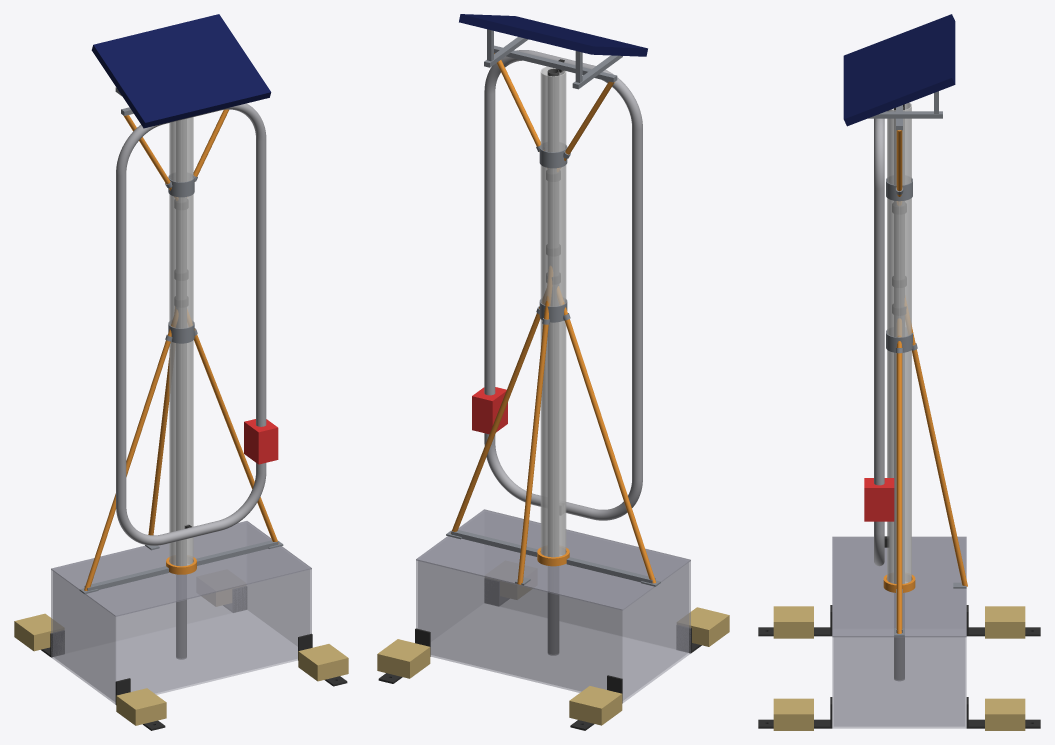
3 views of the same model, side by side, from view 1: azimuth 30°, elevation 25°; view 2: azimuth 150°, elevation 25°; view 3: azimuth 270°, elevation 25° (orthographic). The views are drawn at different scales.
Parts seen in each view (by area): view 1: tank, solar_panel_30W, lid, track_loop, growing_pipe, spine_tube, sandbags, lower_aframe_and_back_strut_16mm, fold_out_feet, base_bar_and_lid_plates, cart, metal_collars_50mm (+1 smaller); view 2: tank, growing_pipe, lid, track_loop, spine_tube, lower_aframe_and_back_strut_16mm, sandbags, solar_panel_30W, fold_out_feet, base_bar_and_lid_plates, panel_rails_and_posts, cart (+3 smaller); view 3: tank, lid, growing_pipe, solar_panel_30W, sandbags, track_loop, lower_aframe_and_back_strut_16mm, spine_tube, fold_out_feet, cart, metal_collars_50mm, panel_rails_and_posts.
Part boxes in pixels (<box>): tank: <box>51,522,311,704</box>; solar_panel_30W: <box>91,14,271,128</box>; lid: <box>51,521,311,616</box>; track_loop: <box>116,103,266,545</box>; growing_pipe: <box>169,117,193,566</box>; spine_tube: <box>176,119,186,659</box>; sandbags: <box>14,589,348,725</box>; lower_aframe_and_back_strut_16mm: <box>84,307,278,590</box>; fold_out_feet: <box>41,586,347,730</box>; base_bar_and_lid_plates: <box>79,540,283,594</box>; cart: <box>244,419,278,464</box>; metal_collars_50mm: <box>165,175,197,343</box>; tank: <box>416,511,690,702</box>; growing_pipe: <box>540,66,566,557</box>; lid: <box>416,509,690,610</box>; track_loop: <box>484,50,642,520</box>; spine_tube: <box>547,68,559,655</box>; lower_aframe_and_back_strut_16mm: <box>451,266,656,584</box>; sandbags: <box>377,581,729,725</box>; solar_panel_30W: <box>459,14,647,56</box>; fold_out_feet: <box>378,578,701,730</box>; base_bar_and_lid_plates: <box>446,530,660,586</box>; panel_rails_and_posts: <box>484,29,622,89</box>; cart: <box>472,387,507,434</box>; tank: <box>832,637,966,728</box>; lid: <box>832,536,966,637</box>; growing_pipe: <box>887,102,911,583</box>; solar_panel_30W: <box>843,14,955,126</box>; sandbags: <box>773,606,1025,730</box>; track_loop: <box>874,118,884,566</box>; lower_aframe_and_back_strut_16mm: <box>896,297,967,633</box>; spine_tube: <box>894,104,904,680</box>; fold_out_feet: <box>758,605,1040,728</box>; cart: <box>864,478,894,521</box>; metal_collars_50mm: <box>886,178,917,353</box>; panel_rails_and_posts: <box>868,91,942,118</box>.
Bounding box in the file's own units: 760 × 2080 × 840.
